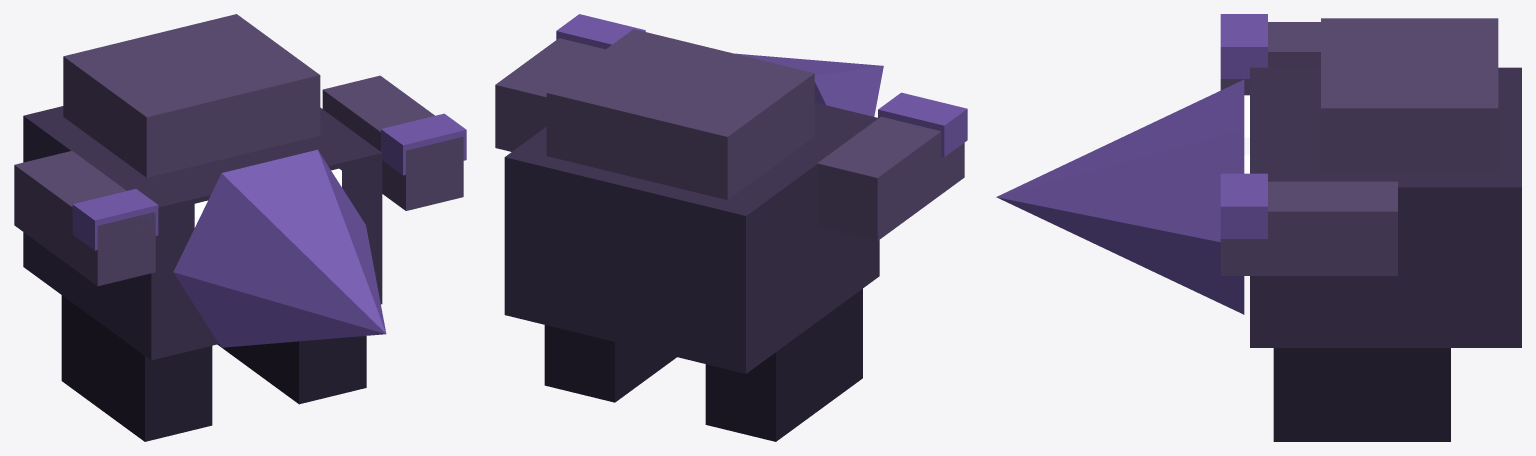
The model's file is enemy_burrower.glb.
3 renders of one model, left to right at view 1: azimuth 30°, elevation 25°; view 2: azimuth 150°, elevation 25°; view 3: azimuth 270°, elevation 25°, orthographic. The views are drawn at different scales.
Parts seen in each view (by area): view 1: body, arms; view 2: body, arms; view 3: body, arms.
Boxes of the visible parts, x1,y1,x2,y2 form: body: (23, 14, 386, 441); arms: (14, 75, 466, 286); body: (504, 29, 883, 441); arms: (495, 14, 967, 240); body: (996, 18, 1521, 441); arms: (1220, 14, 1397, 275).
Bounding box in the file's own units: 0.772 × 0.6 × 0.89.
